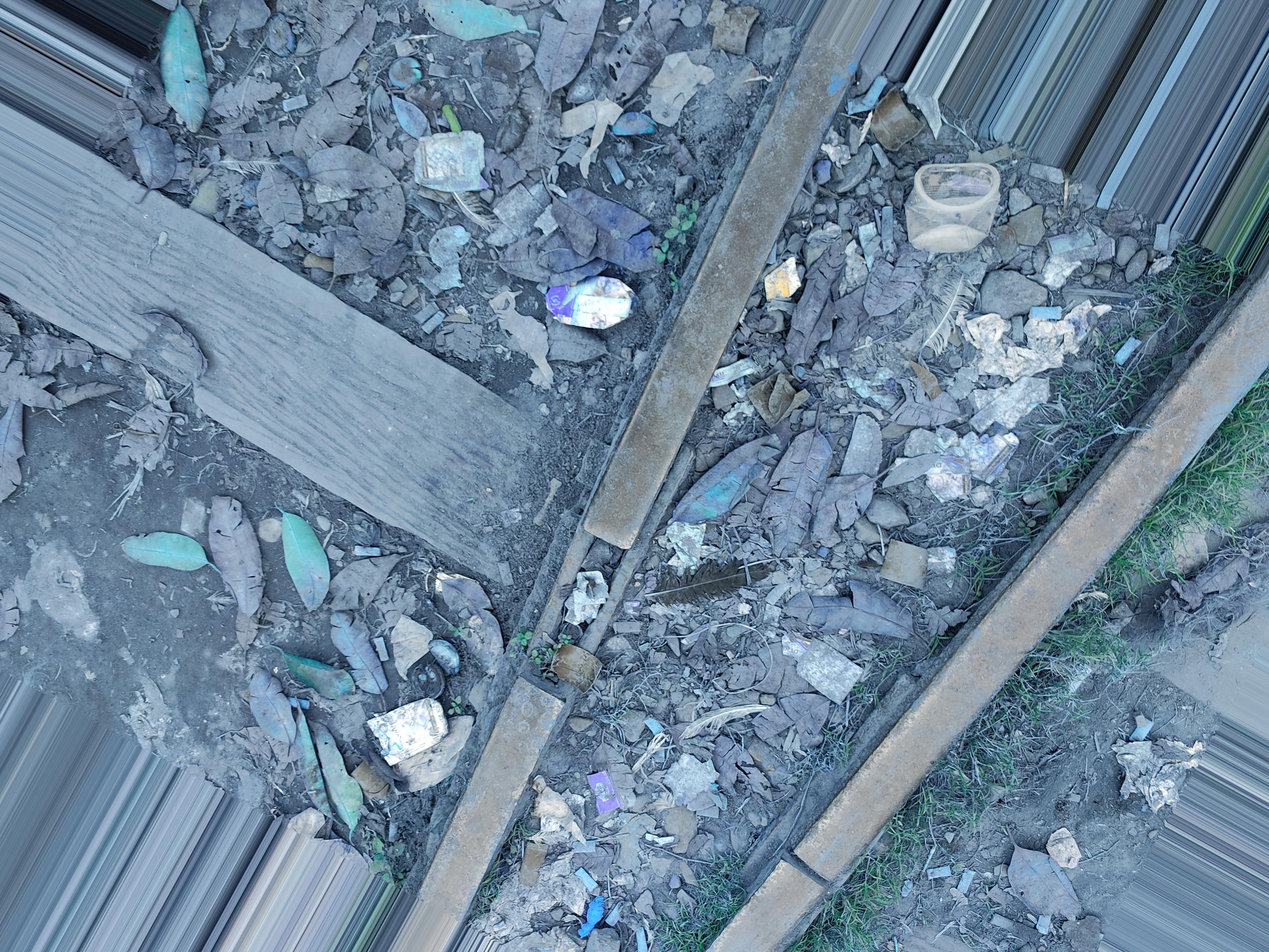tracks_fault: (493, 408, 652, 786), (742, 765, 879, 916)
